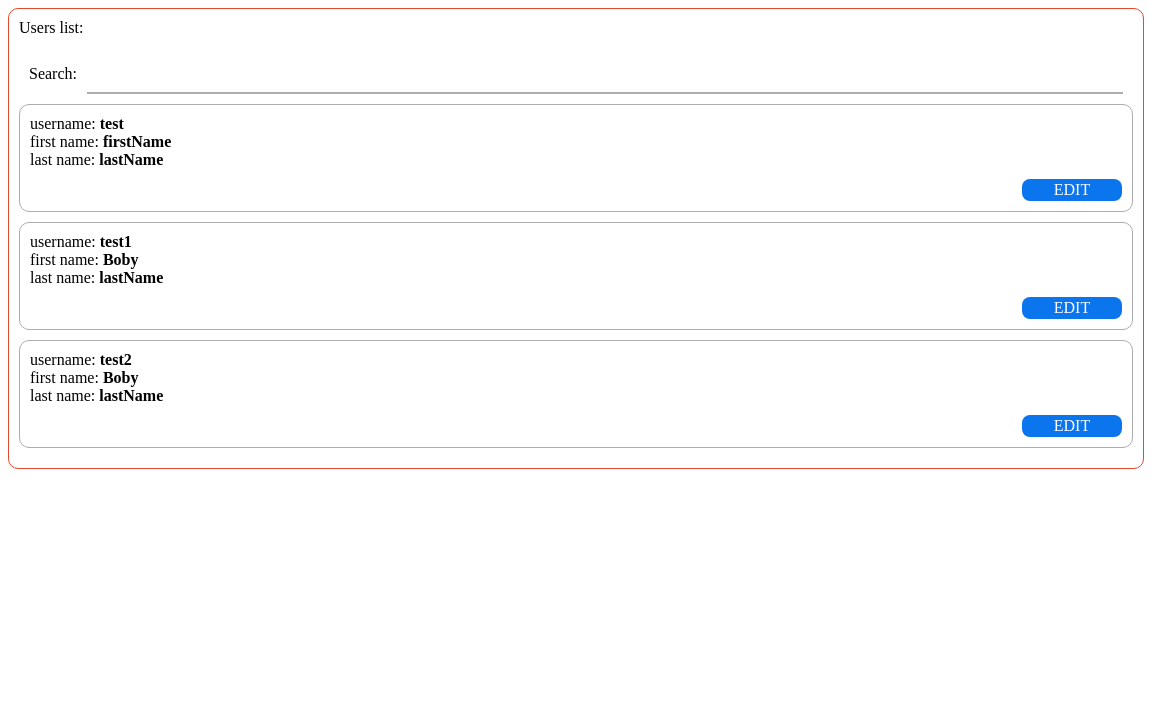
Test: Component › form to edit user must uppear when edit button clicked
Click the 1st button "edit".
click(1072, 190)  # box 1022,179 -> 1122,201
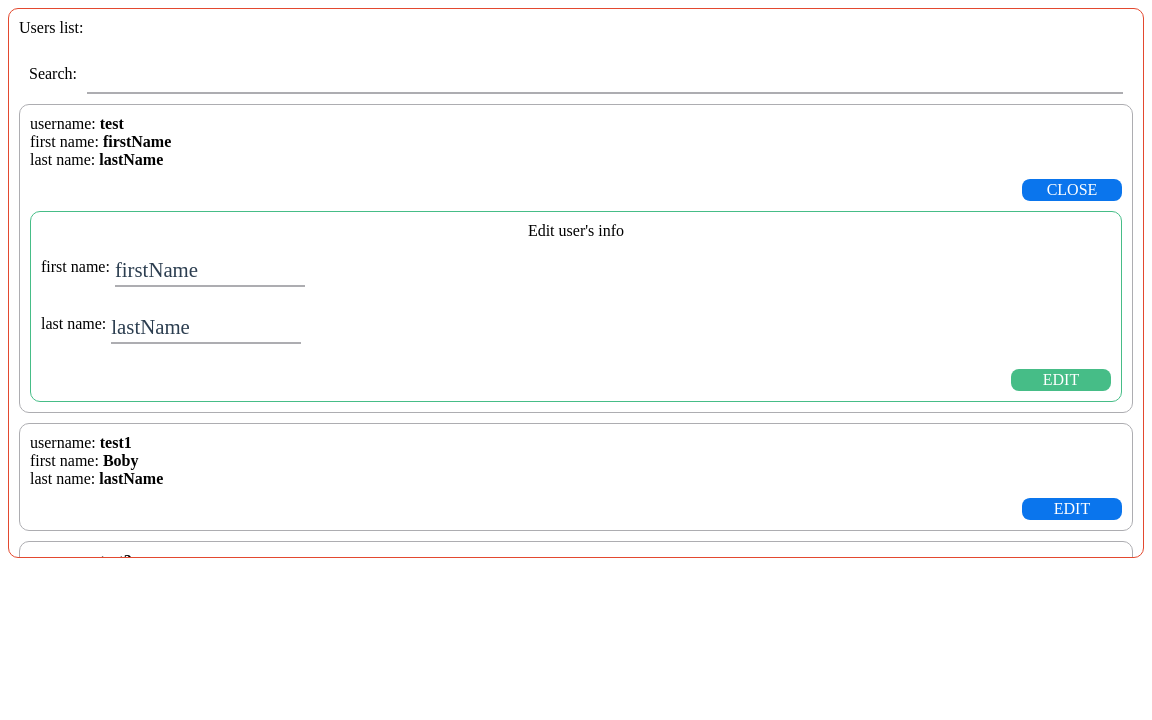
Now the element showing "Edit user's info first name: last name: edit" is shown, box 30,211 -> 1122,402
